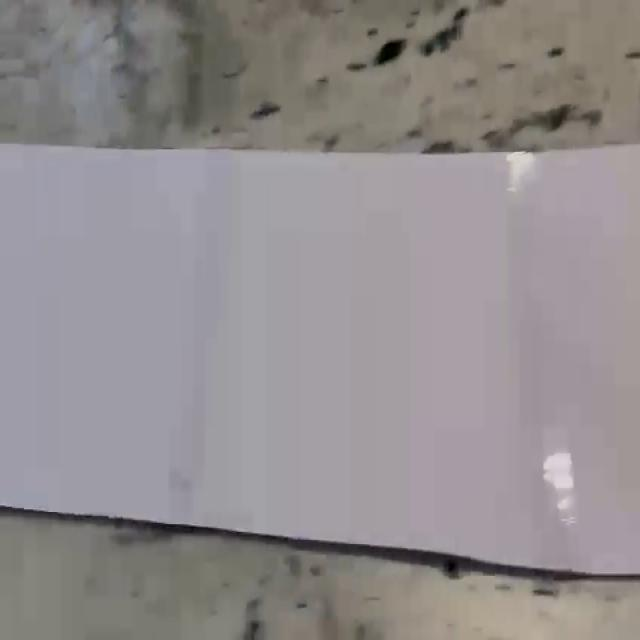road: (0, 145, 640, 574)
